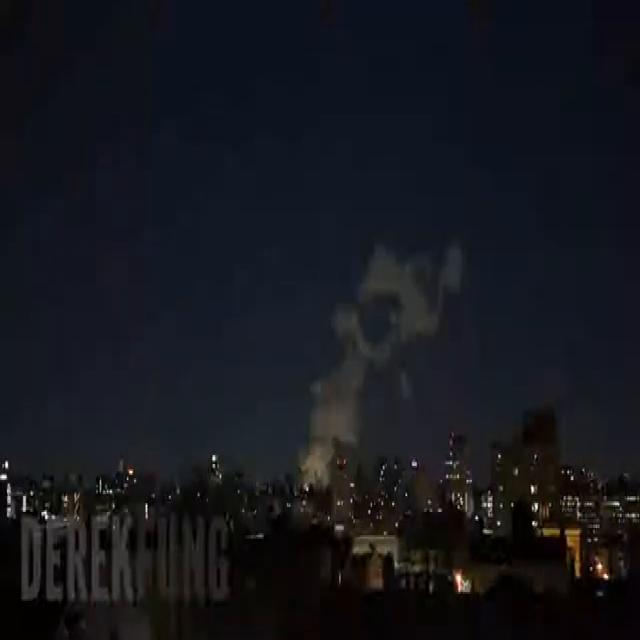smoke: (303, 245, 462, 478)
